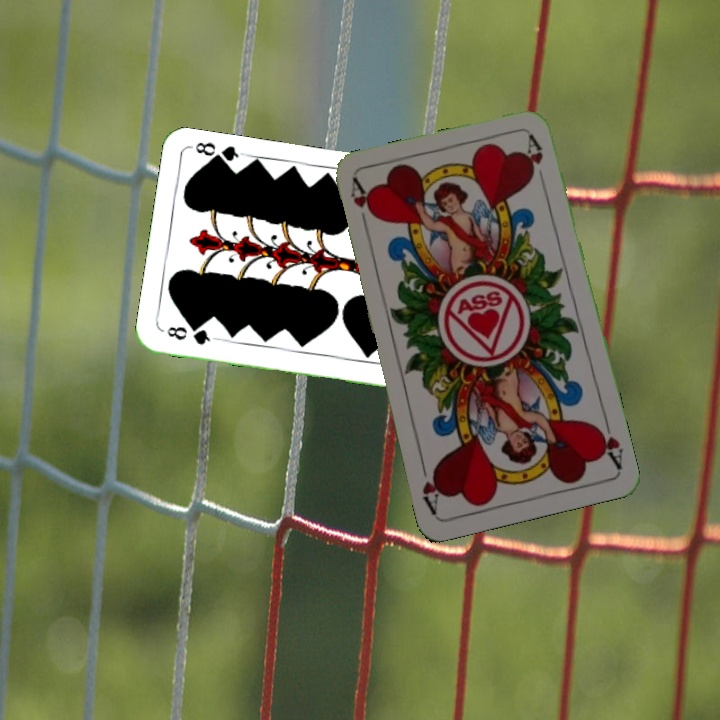G8: (163, 322, 219, 347)
HA: (591, 413, 626, 472), (346, 176, 377, 234)
